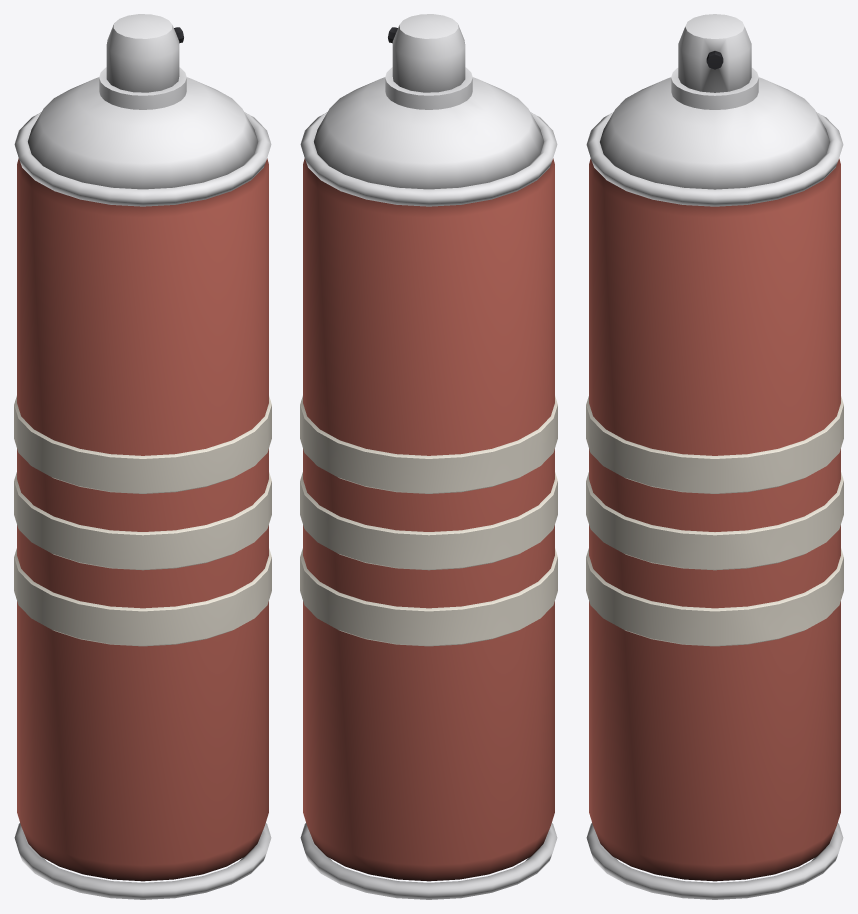
The model's file is spray_l.glb.
3 views of the same model, side by side, from view 1: azimuth 30°, elevation 25°; view 2: azimuth 150°, elevation 25°; view 3: azimuth 270°, elevation 25° (orthographic).
Parts seen in each view (by area): view 1: PART; view 2: PART; view 3: PART.
Boxes of the visible parts, x1,y1,x2,y2 form: PART: (14, 14, 271, 899); PART: (300, 14, 557, 899); PART: (586, 14, 843, 899).
Size of the model in its own units: 0.0736 by 0.26 by 0.0736.
